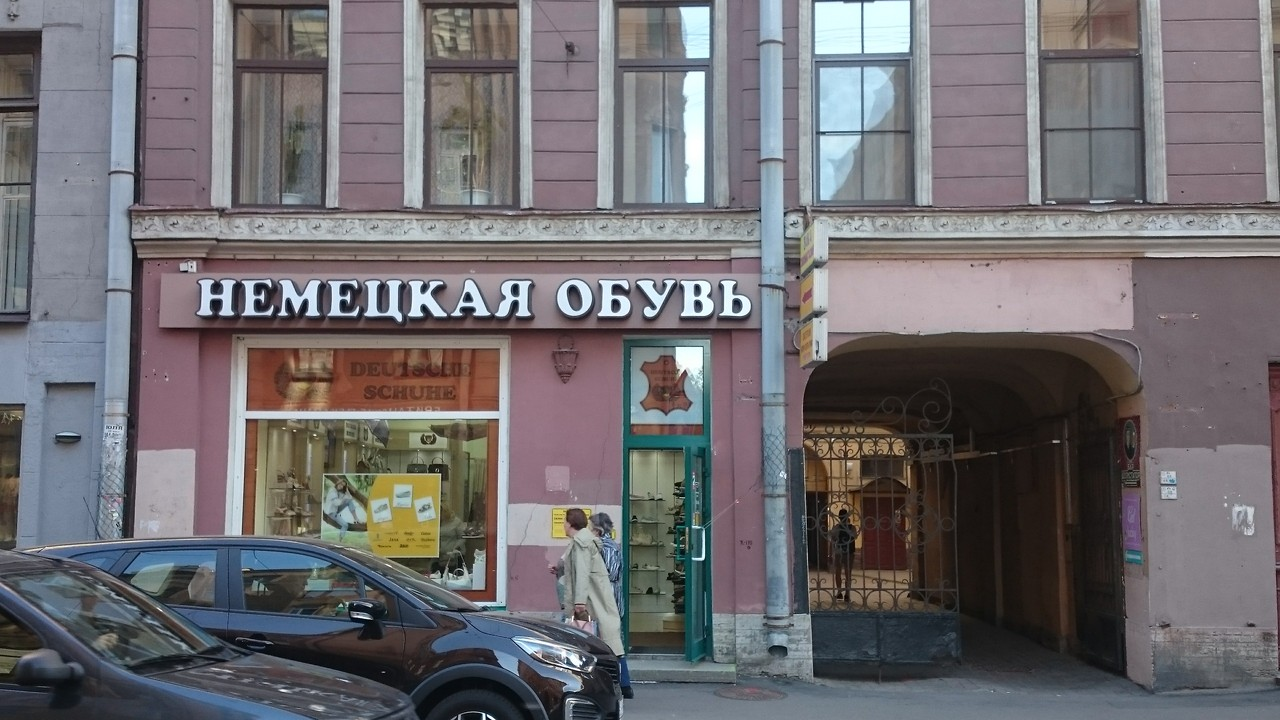arch: (804, 338, 1150, 681)
cantilever: (788, 215, 832, 369)
door: (624, 442, 714, 659)
signboard: (159, 272, 761, 328)
window: (244, 421, 505, 599), (613, 1, 713, 212), (232, 1, 330, 211), (815, 1, 915, 205), (1047, 1, 1146, 202), (426, 1, 523, 204), (625, 333, 710, 439)
